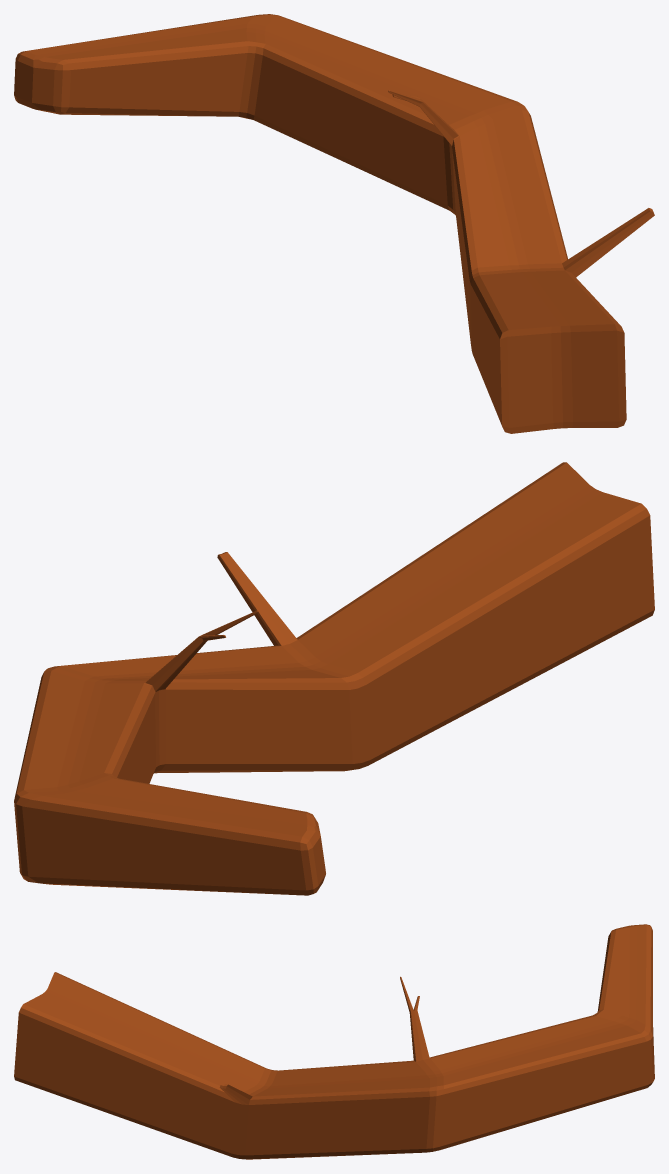
File: agac_dal3.fbx
3 views of the same model, one above another, from view 1: azimuth 30°, elevation 25°; view 2: azimuth 150°, elevation 25°; view 3: azimuth 270°, elevation 25° (orthographic). The views are drawn at different scales.
Visible parts, largest first — view 1: Cylinder.006; view 2: Cylinder.006; view 3: Cylinder.006.
Boxes of the visible parts, bbox=[...] form: Cylinder.006: bbox=[14, 14, 654, 433]; Cylinder.006: bbox=[14, 462, 654, 895]; Cylinder.006: bbox=[14, 924, 654, 1159].
Bounding box in the file's own units: 4.03 × 2.1 × 7.8.
